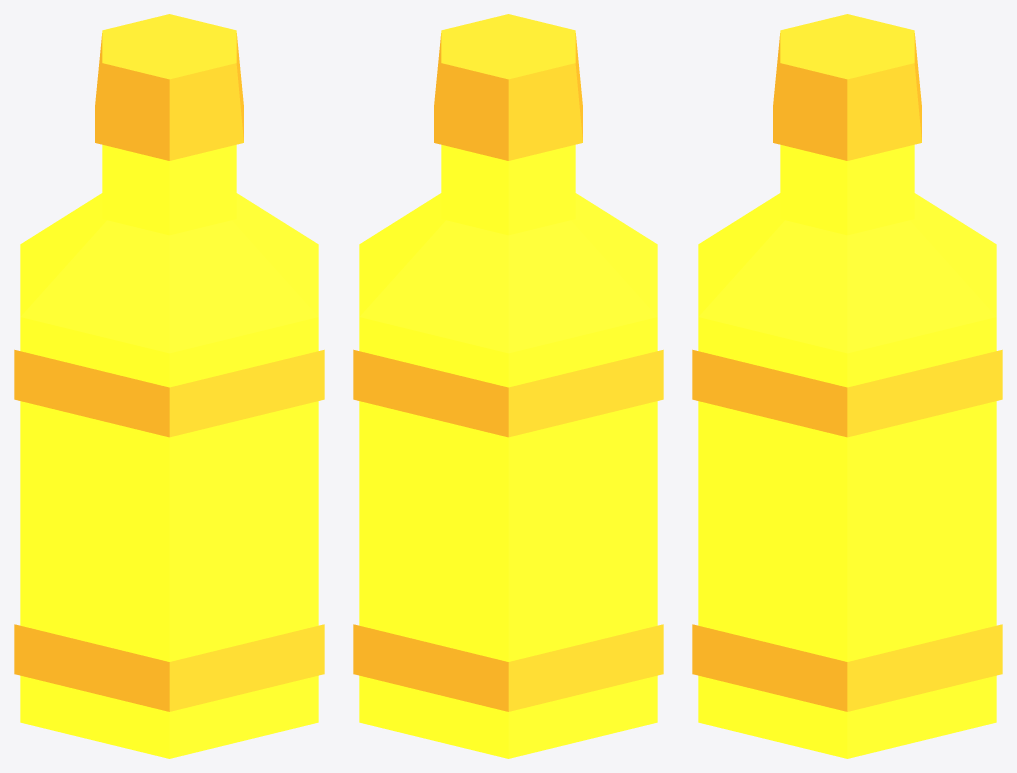
Rendered from elixir_of_life.glb.
3 renders of one model, left to right at view 1: azimuth 30°, elevation 25°; view 2: azimuth 150°, elevation 25°; view 3: azimuth 270°, elevation 25°, orthographic.
Visible parts, largest first — view 1: elixir_of_life; view 2: elixir_of_life; view 3: elixir_of_life.
Boxes of the visible parts, left/top/right/bottom form: elixir_of_life: left=14, top=14, right=324, bottom=758; elixir_of_life: left=353, top=14, right=663, bottom=758; elixir_of_life: left=692, top=14, right=1002, bottom=758.
Size of the model in its own units: 0.325 by 0.6406 by 0.2815.
